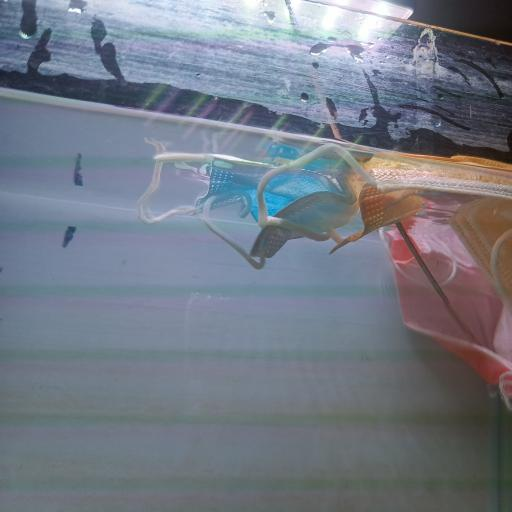mask: (136, 143, 363, 286), (270, 140, 512, 266), (383, 208, 512, 408)
